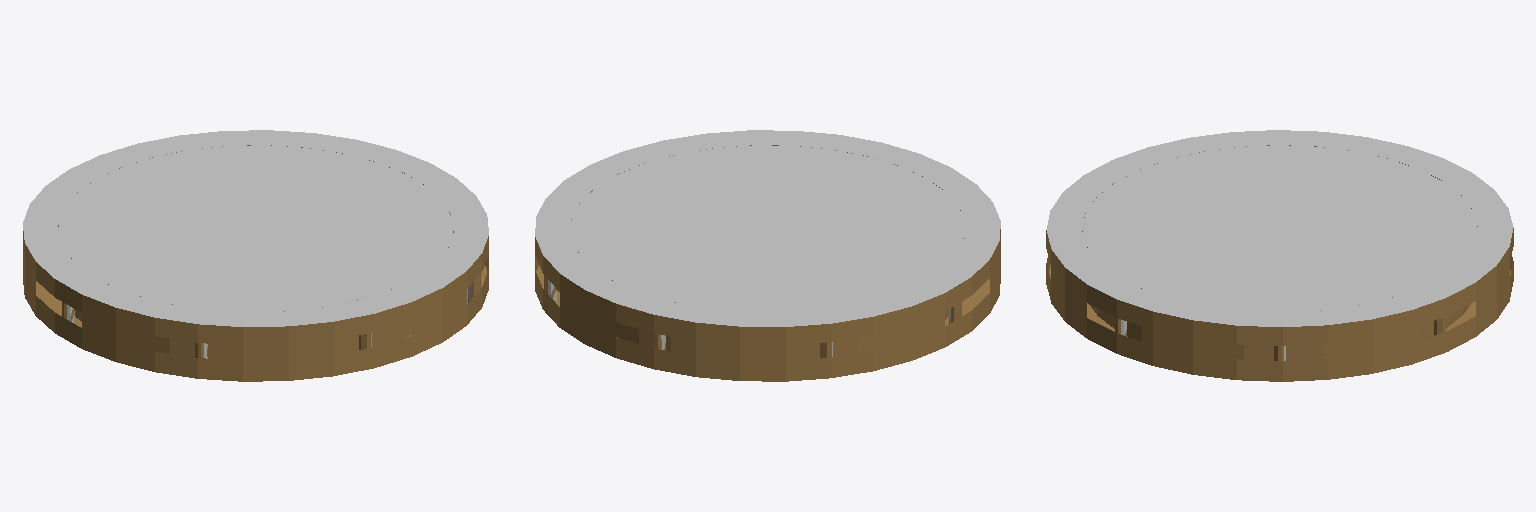
3 renders of one model, left to right at view 1: azimuth 30°, elevation 25°; view 2: azimuth 150°, elevation 25°; view 3: azimuth 270°, elevation 25°, orthographic.
Visible parts, largest first — view 1: 立方体; view 2: 立方体; view 3: 立方体.
Part boxes in pixels (x1,y1,x2,y2): 立方体: (23,130,488,381); 立方体: (535,130,1000,381); 立方体: (1046,130,1513,381).
Bounding box in the file's own units: 1 × 0.1292 × 1.
1 materials, 1 textured.